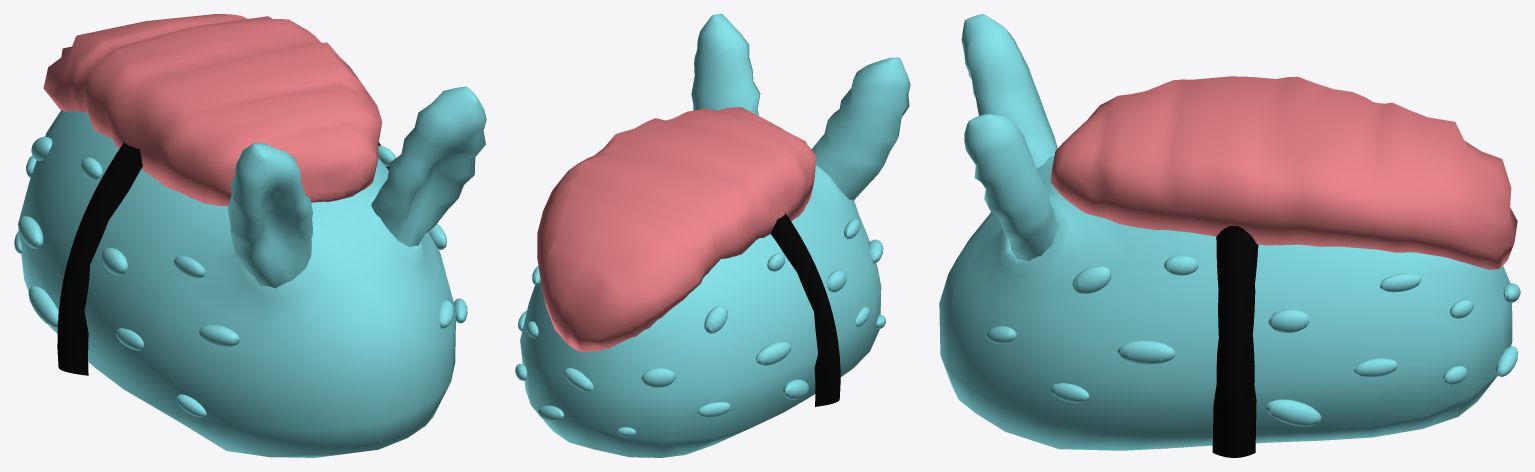
Rendered from Conejo 2.fbx.
3 renders of one model, left to right at view 1: azimuth 30°, elevation 25°; view 2: azimuth 150°, elevation 25°; view 3: azimuth 270°, elevation 25°, orthographic. The views are drawn at different scales.
Visible parts, largest first — view 1: cuerpo, sushi, orejas, algas, arrocito; view 2: cuerpo, sushi, orejas, arrocito, algas; view 3: cuerpo, sushi, orejas, algas, arrocito.
Boxes of the visible parts, x1,y1,x2,y2 form: cuerpo: (18, 110, 456, 457); sushi: (43, 14, 382, 206); orejas: (228, 86, 486, 288); algas: (57, 142, 389, 375); arrocito: (14, 136, 467, 417); cuerpo: (520, 164, 881, 457); sushi: (537, 107, 816, 352); orejas: (691, 14, 910, 200); arrocito: (515, 219, 885, 436); algas: (770, 211, 840, 406); cuerpo: (939, 156, 1512, 450); sushi: (1050, 76, 1517, 269); orejas: (961, 14, 1057, 261); algas: (1212, 226, 1258, 457); arrocito: (987, 255, 1520, 426).
Size of the model in its own units: 219 by 210 by 320.
